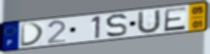1: (90, 15, 103, 40)
2: (46, 19, 68, 45)
D: (20, 22, 46, 48)
E: (162, 6, 188, 33)
S: (104, 12, 129, 39)
U: (136, 8, 162, 35)
